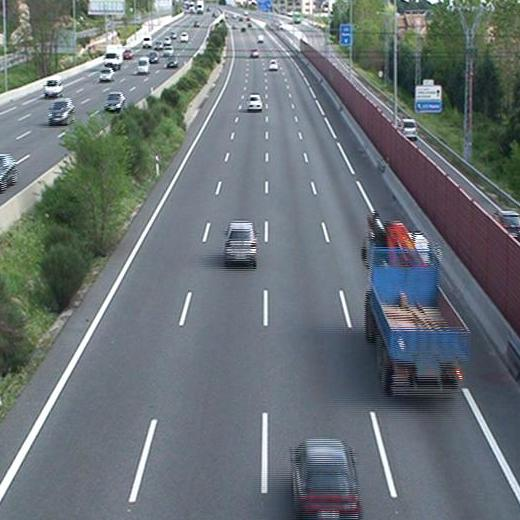car: (288, 437, 361, 520), (223, 222, 258, 264), (246, 95, 263, 111), (268, 59, 280, 71)
small-truck: (363, 211, 473, 400)
